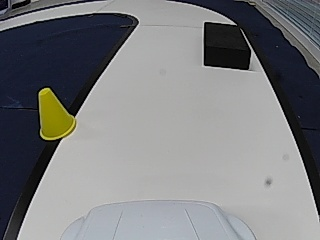block: (204, 22, 251, 70)
cone: (38, 89, 77, 139)
